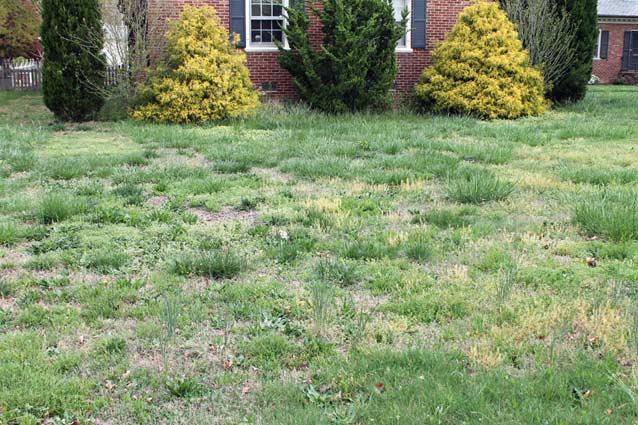crabgrass: (430, 167, 531, 214), (563, 190, 638, 245), (184, 236, 241, 276), (35, 196, 77, 223)
